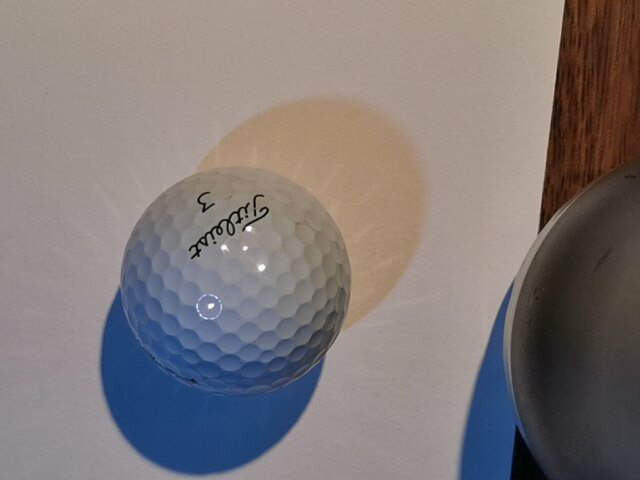Ball: (120, 165, 352, 398)
Titleist: (188, 194, 270, 260)
